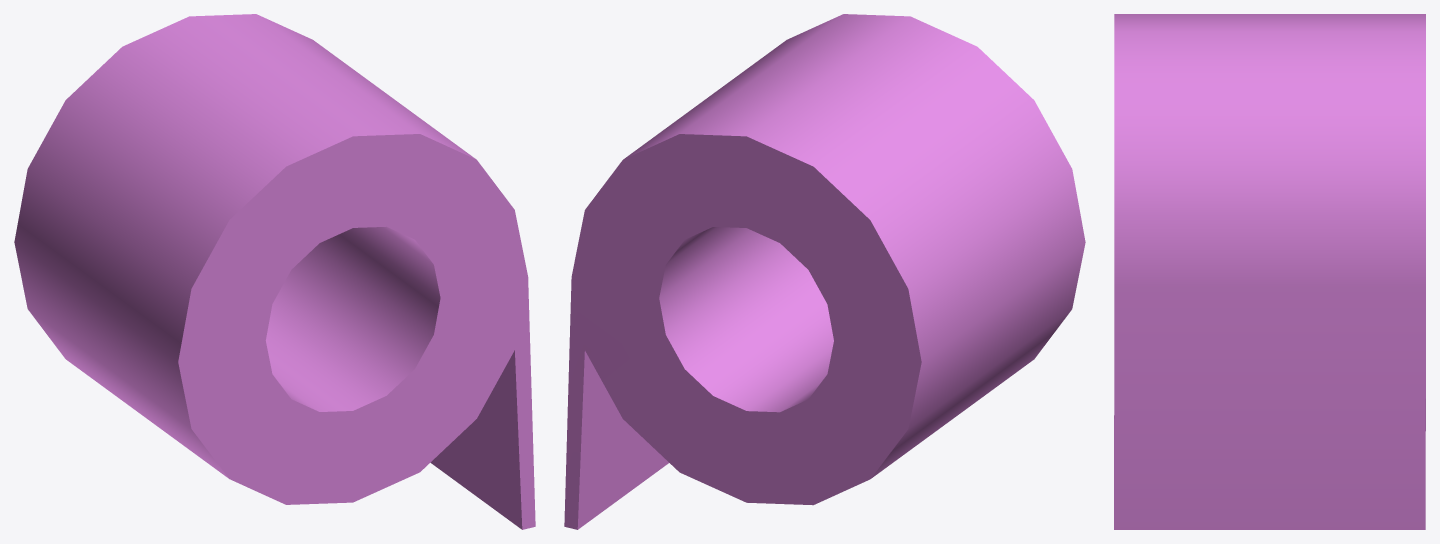
Rendered from SM_Ductape.fbx.
The picture shows the model from 3 angles, left to right: view 1: azimuth 30°, elevation 25°; view 2: azimuth 150°, elevation 25°; view 3: azimuth 270°, elevation 25°; orthographic projection. The views are drawn at different scales.
Parts seen in each view (by area): view 1: SM_Ductape; view 2: SM_Ductape; view 3: SM_Ductape.
Boxes of the visible parts, box(x1,y1,x2,y2) form: SM_Ductape: box(14, 14, 535, 529); SM_Ductape: box(564, 14, 1085, 529); SM_Ductape: box(1114, 14, 1425, 529).
Bounding box in the file's own units: 0.4358 × 0.5067 × 0.3464.
